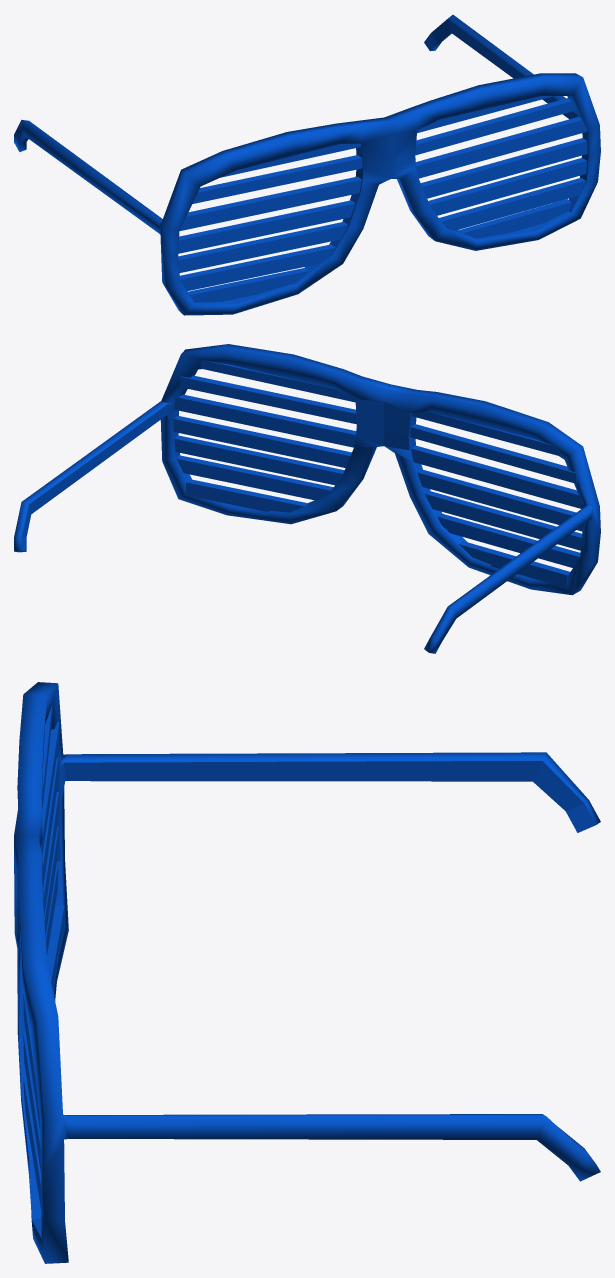
Rendered from OculosGradinha.fbx.
3 renders of one model, top to bottom at view 1: azimuth 30°, elevation 25°; view 2: azimuth 150°, elevation 25°; view 3: azimuth 270°, elevation 25°, orthographic. The views are drawn at different scales.
Parts seen in each view (by area): view 1: Acess_Oculos; view 2: Acess_Oculos; view 3: Acess_Oculos.
Boxes of the visible parts, bbox=[...] form: Acess_Oculos: bbox=[14, 15, 600, 315]; Acess_Oculos: bbox=[14, 344, 600, 653]; Acess_Oculos: bbox=[14, 682, 600, 1263].
Bounding box in the file's own units: 48.2 × 17.58 × 32.47.
